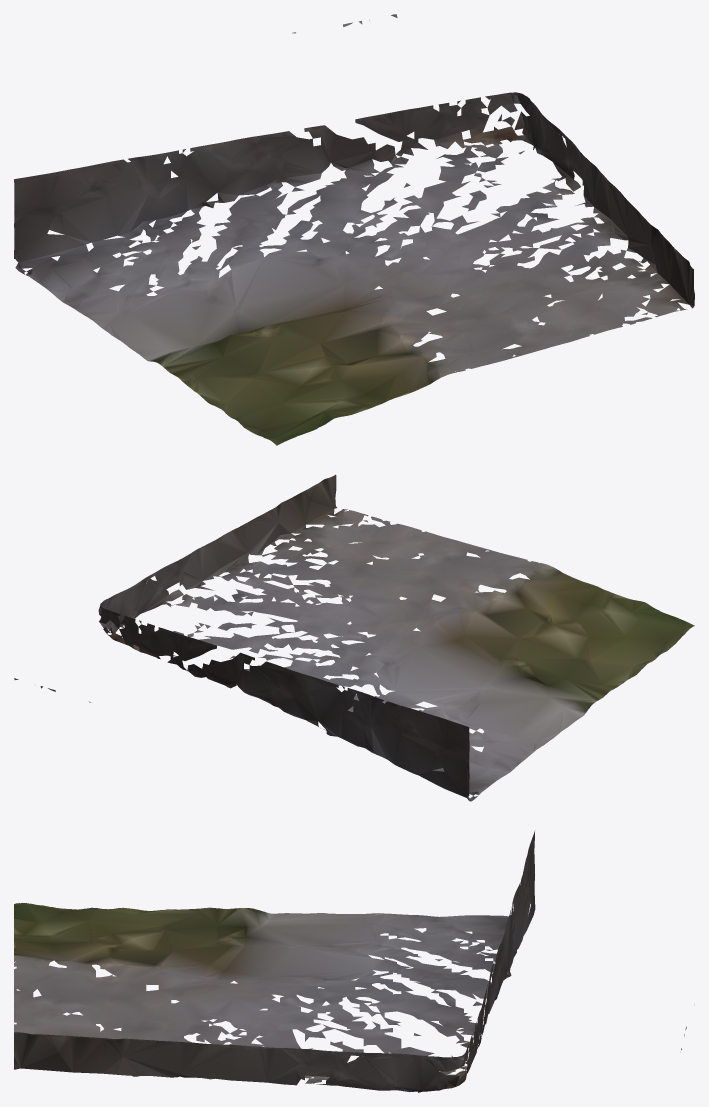
Rendered from coarse.glb.
The picture shows the model from 3 angles, top to bottom: view 1: azimuth 30°, elevation 25°; view 2: azimuth 150°, elevation 25°; view 3: azimuth 270°, elevation 25°; orthographic projection. The views are drawn at different scales.
Bounding box in the file's own units: 2.28 × 0.4109 × 2.88.
